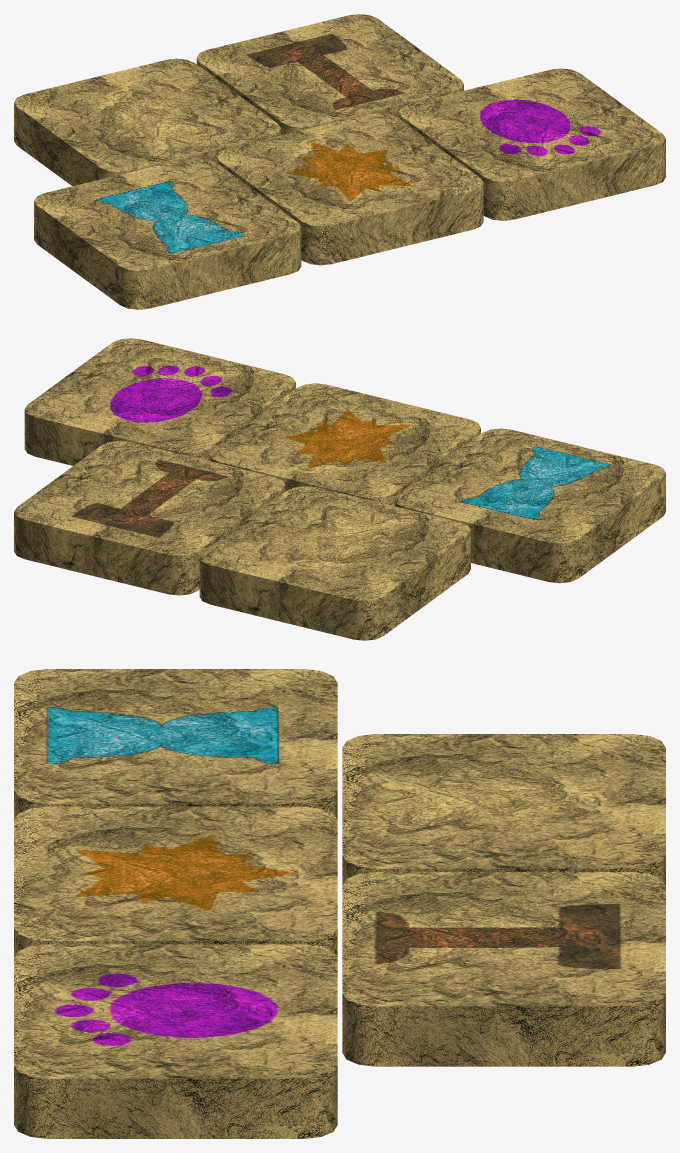
Rendered from All Tiles.fbx.
The picture shows the model from 3 angles, top to bottom: view 1: azimuth 30°, elevation 25°; view 2: azimuth 150°, elevation 25°; view 3: azimuth 270°, elevation 25°; orthographic projection. The views are drawn at different scales.
Parts seen in each view (by area): view 1: flat_tile:pCube1, pCube1, pCube2, pCube3, pCube4; view 2: pCube3, flat_tile:pCube1, pCube4, pCube2, pCube1; view 3: pCube2, pCube4, pCube1, pCube3, flat_tile:pCube1.
Part boxes in pixels (x1,y1,x2,y2): flat_tile:pCube1: (34,157,301,309); pCube1: (216,113,483,265); pCube2: (398,68,665,220); pCube3: (14,58,281,186); pCube4: (196,14,463,135); pCube3: (199,486,470,640); flat_tile:pCube1: (394,428,665,583); pCube4: (14,440,285,595); pCube2: (24,338,295,465); pCube1: (209,383,480,505); pCube2: (14,944,337,1138); pCube4: (342,872,665,1066); pCube1: (14,806,337,957); pCube3: (342,734,665,885); flat_tile:pCube1: (14,669,337,819).
Size of the model in its own units: 6.1 by 0.4186 by 4.11.
